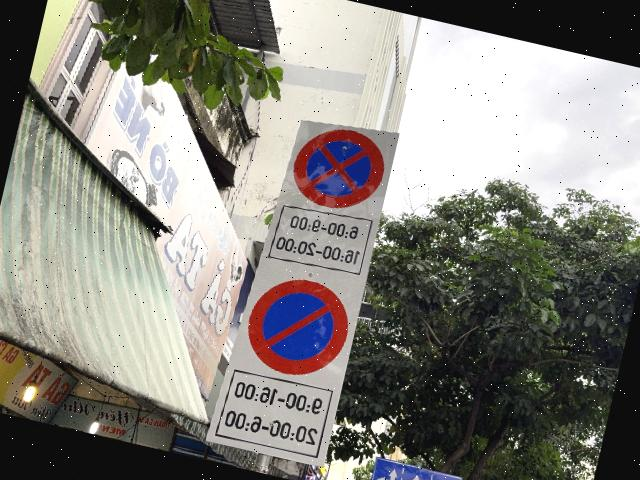cam-do-xe: (238, 269, 357, 386)
cam-dung-va-do-xe: (286, 118, 390, 218)
